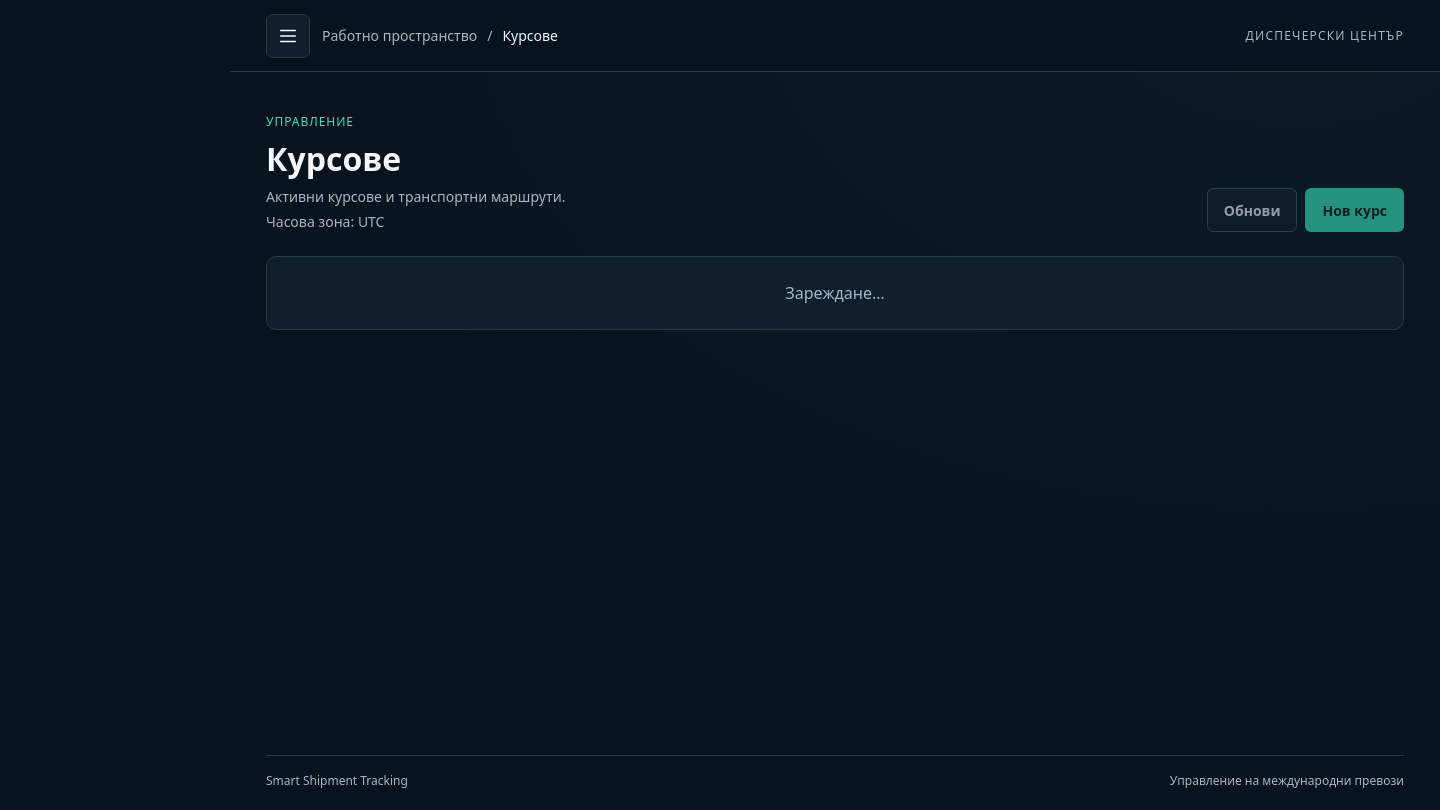
resizing to desktop removes the modal and leaves the persistent navigation usable
Click the button named "Отвори навигацията": (288, 36) top-left (266, 14), bottom-right (310, 58)
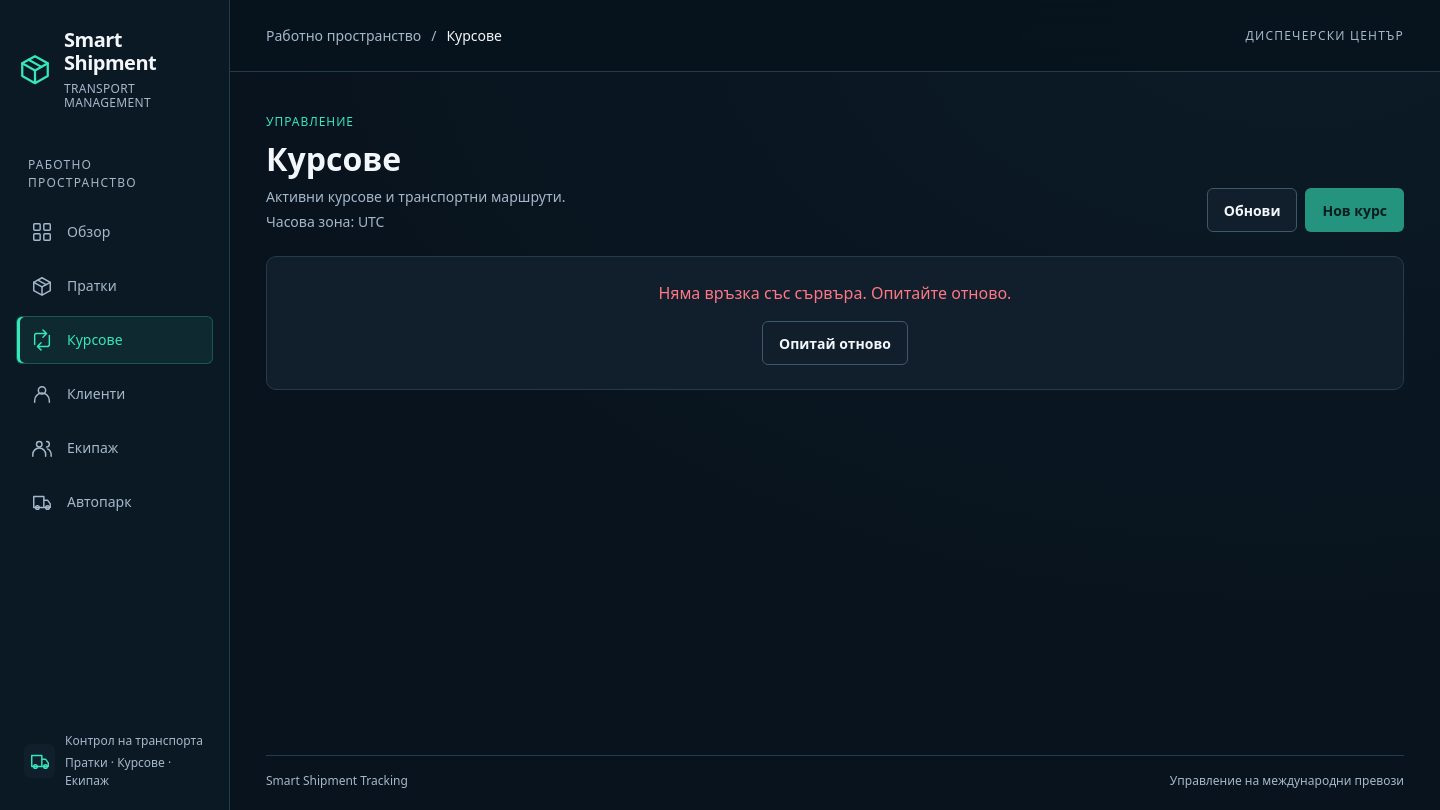
Now the navigation bar named "Основна навигация" is shown, box top-left (16, 208), bottom-right (213, 526)
